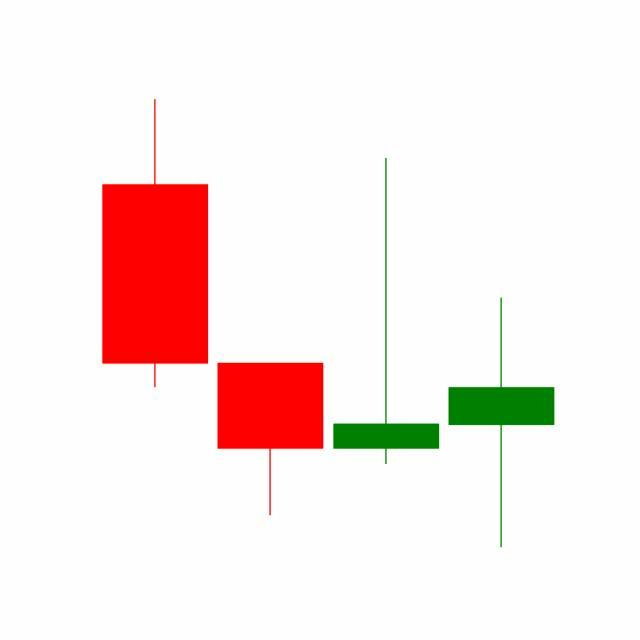Spinning Top: (444, 296, 560, 552)
